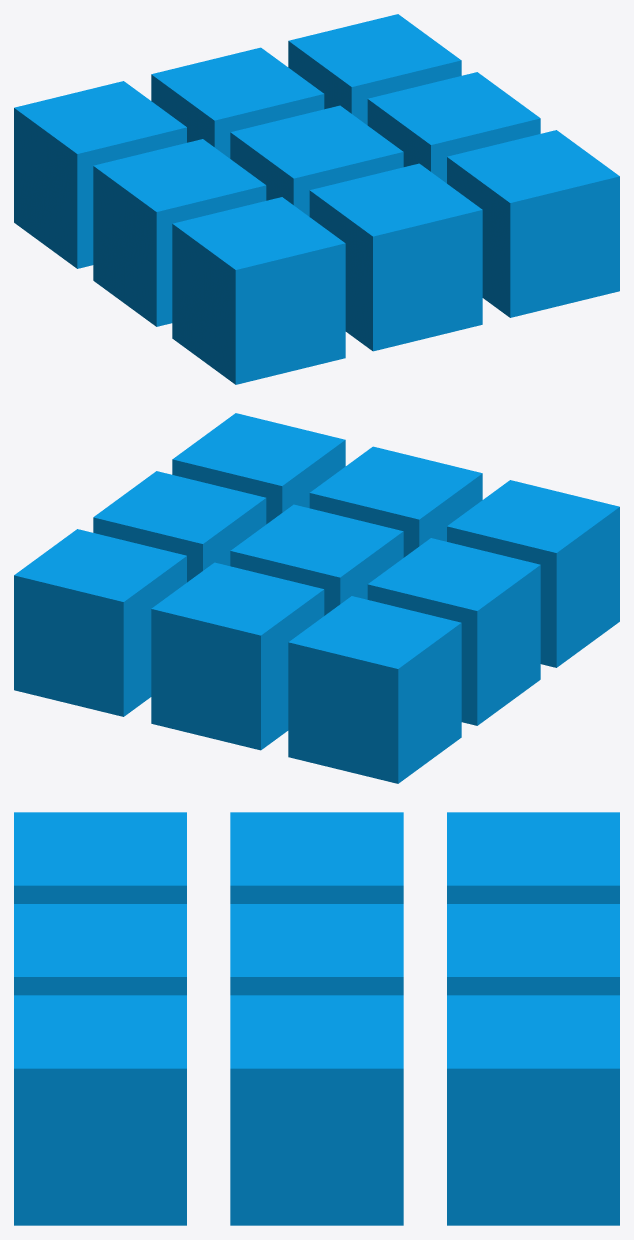
The model's file is ceiling.cube.obj.
3 views of the same model, one above another, from view 1: azimuth 30°, elevation 25°; view 2: azimuth 150°, elevation 25°; view 3: azimuth 270°, elevation 25° (orthographic). The views are drawn at different scales.
Bounding box in the file's own units: 2.8 × 0.8 × 2.8.
Materials: 1 (1 with a texture image).
